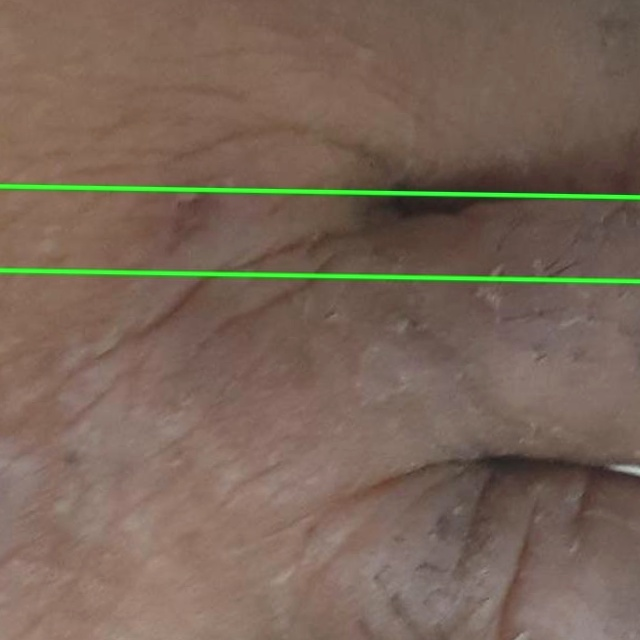Eczema: (0, 186, 639, 639), (0, 0, 639, 281)
